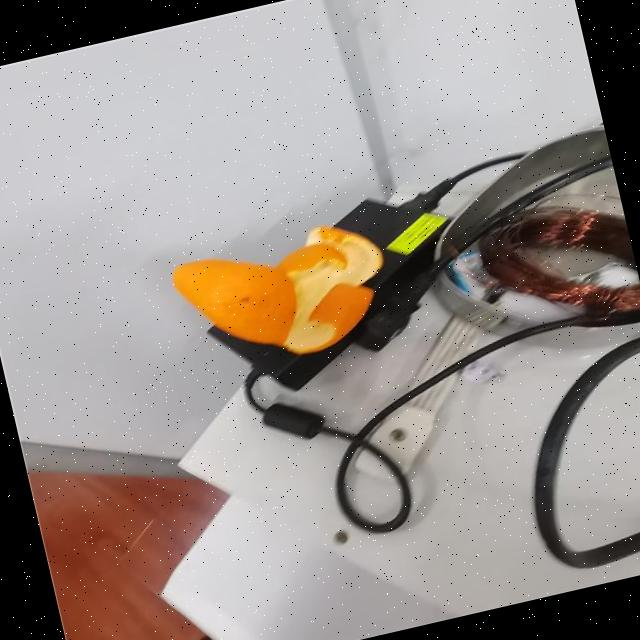orange-peel: (165, 210, 401, 380)
